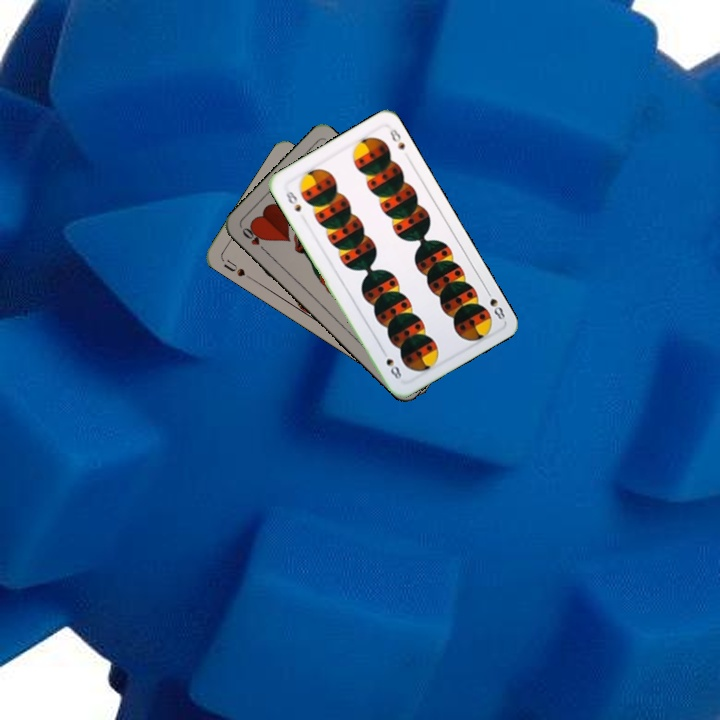HO: (238, 223, 270, 255)
S8: (482, 285, 508, 322), (280, 185, 304, 214)
SU: (218, 255, 254, 282)
